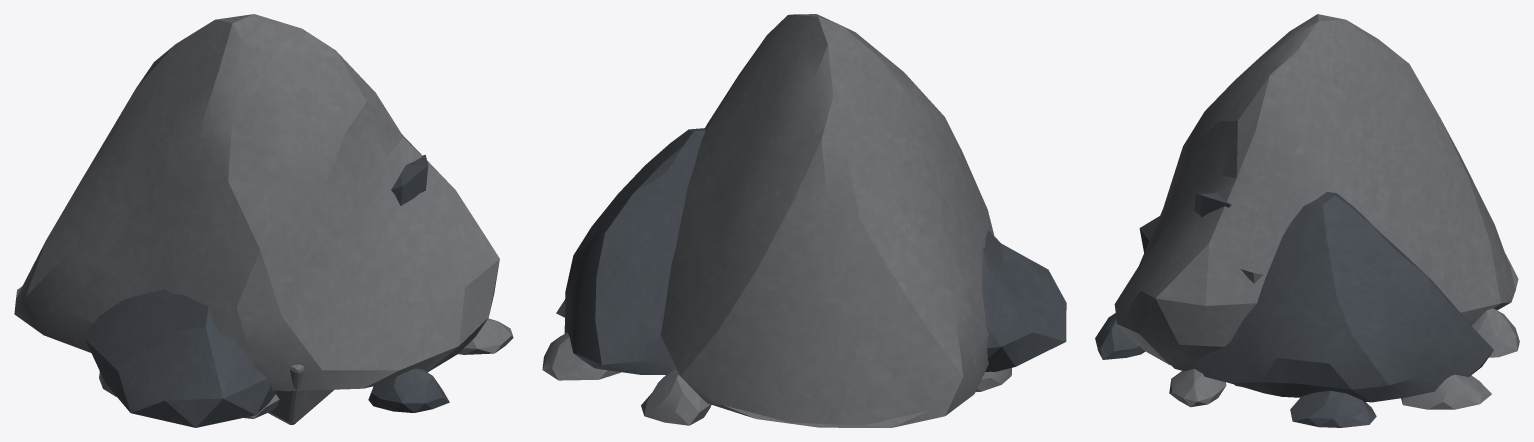
Rendered from scenery_rock.glb.
The picture shows the model from 3 angles, left to right: view 1: azimuth 30°, elevation 25°; view 2: azimuth 150°, elevation 25°; view 3: azimuth 270°, elevation 25°; orthographic projection. The views are drawn at different scales.
Parts seen in each view (by area): view 1: primary basalt ridge, sheared slate crest; view 2: primary basalt ridge, sheared slate crest; view 3: primary basalt ridge, sheared slate crest.
Part boxes in pixels (box(x1,y1,x2,y2)): primary basalt ridge: box(14, 14, 513, 424); sheared slate crest: box(85, 154, 476, 427); primary basalt ridge: box(542, 14, 1011, 427); sheared slate crest: box(556, 128, 1066, 374); primary basalt ridge: box(1114, 14, 1519, 409); sheared slate crest: box(1095, 192, 1493, 427).
Size of the model in its own units: 2.12 by 1.65 by 2.
2 materials, 2 textured.
